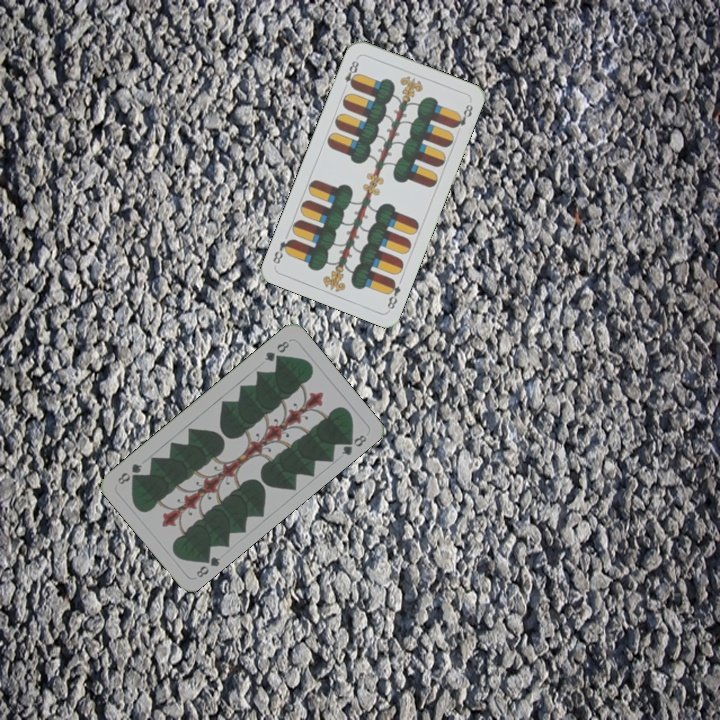E8: (339, 54, 362, 92), (383, 275, 403, 312)
G8: (192, 550, 223, 580), (260, 337, 292, 364)
